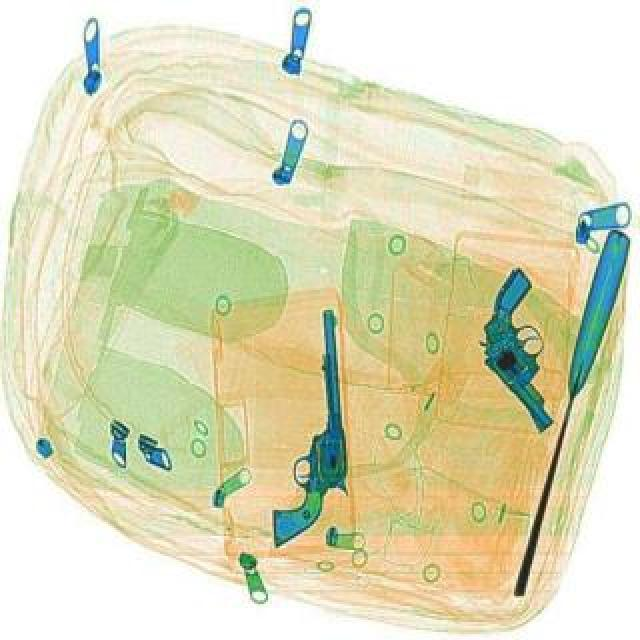gun: (442, 262, 614, 434), (252, 306, 356, 542)
knife: (504, 230, 632, 596)
